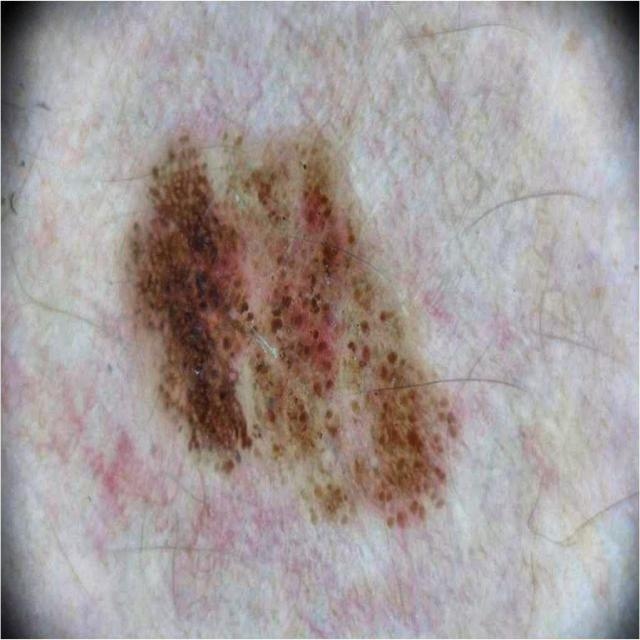Melanocytic-Nevi-NV-: (129, 137, 456, 526)
